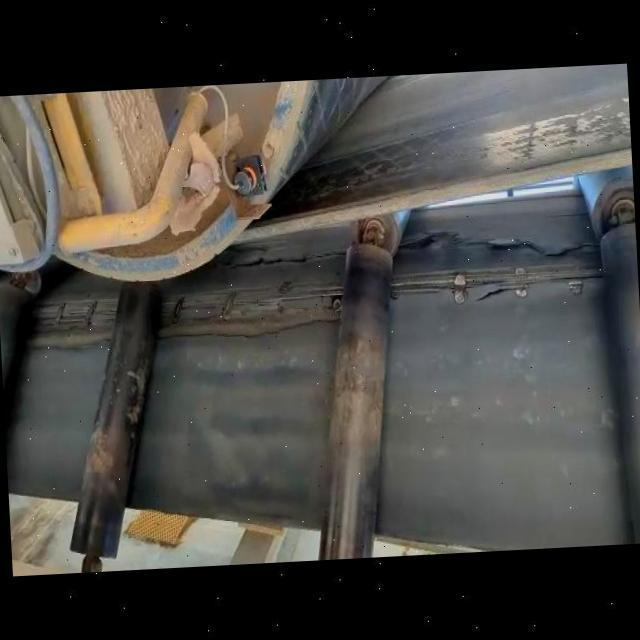Tear: (154, 278, 345, 350), (381, 226, 607, 264), (27, 294, 122, 354), (463, 282, 528, 304)
